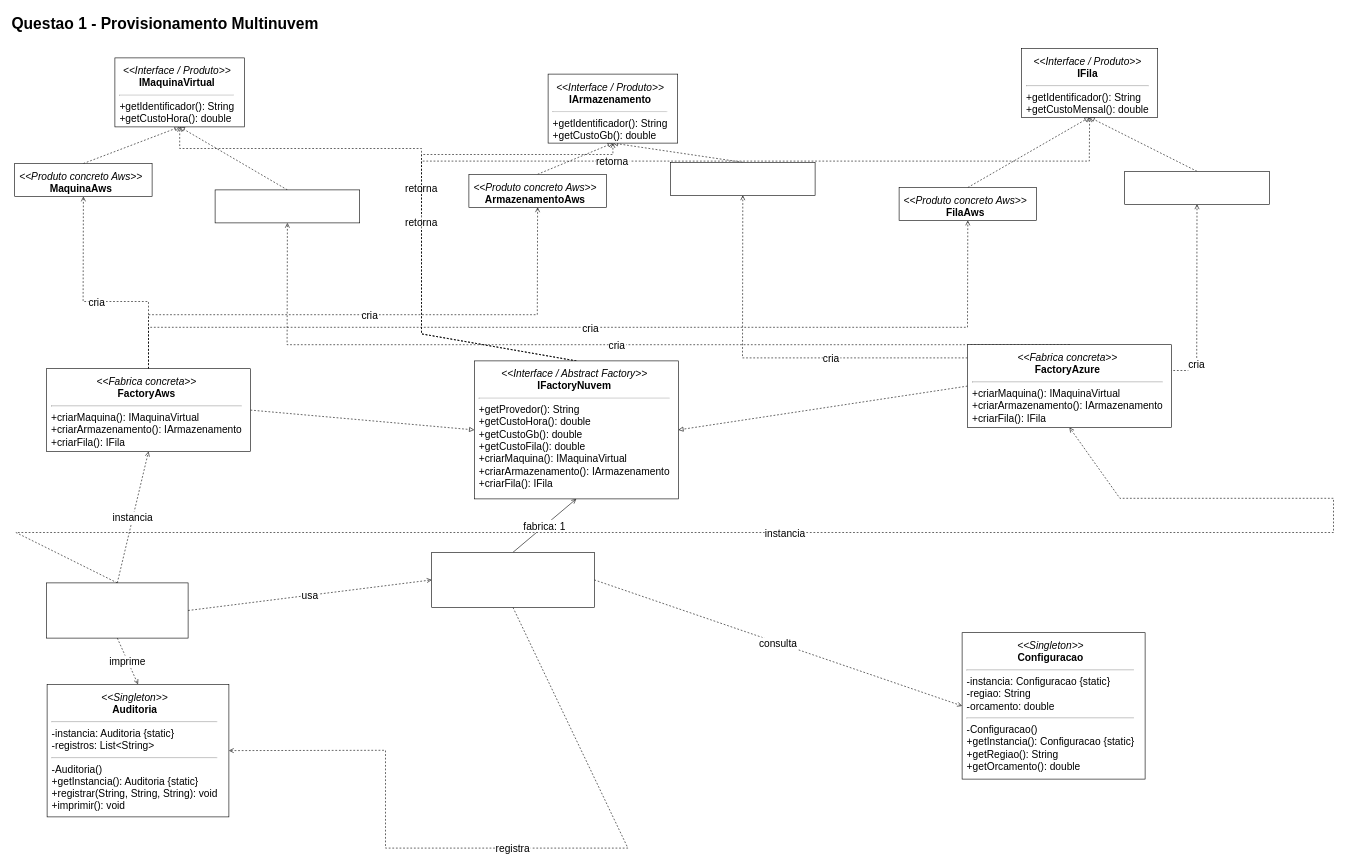
This 1349x865 diagram has some shape labels left out. Here are the shapes that lost their labels. From the top down, the box of each, then its label:
(670, 162, 815, 195): <<Produto concreto Azure>> ArmazenamentoAzure
(1124, 171, 1269, 204): <<Produto concreto Azure>> FilaAzure
(214, 189, 360, 223): <<Produto concreto Azure>> MaquinaAzure
(431, 552, 594, 608): <<Cliente>> Provisionamento +provisionar(String, int, int): void
(46, 582, 188, 638): <<Cliente>> Main +main(String[]): void {static}
